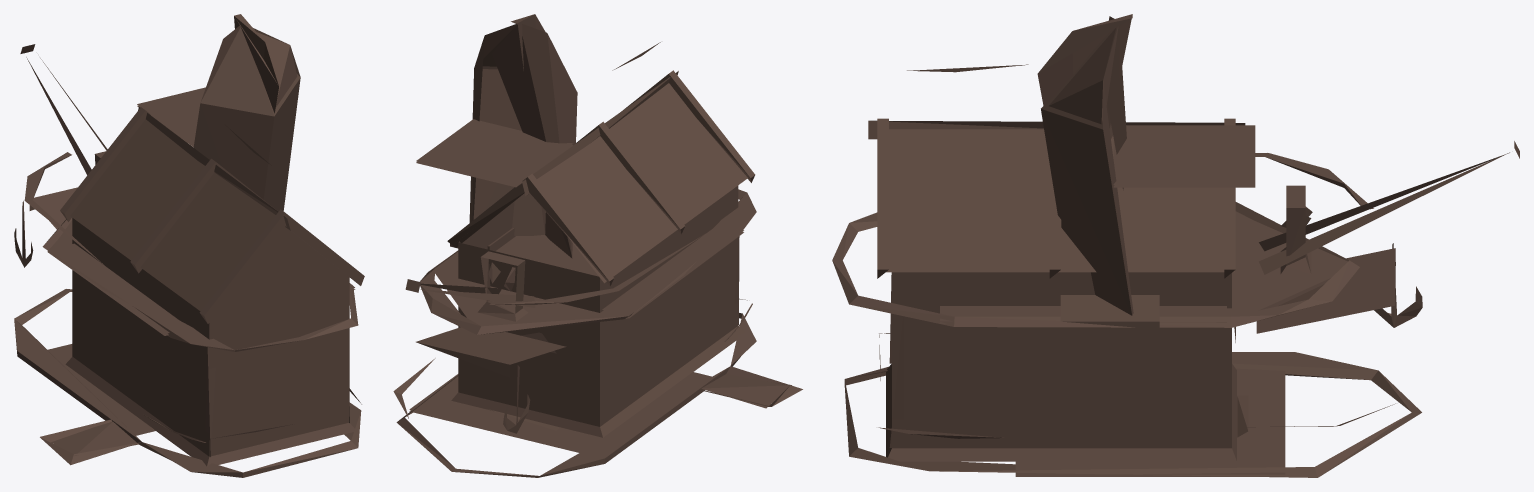
Rendered from fishing-hut.lod2.glb.
3 views of the same model, side by side, from view 1: azimuth 30°, elevation 25°; view 2: azimuth 150°, elevation 25°; view 3: azimuth 270°, elevation 25° (orthographic). The views are drawn at different scales.
Visible parts, largest first — view 1: Box040_Material #2_0; view 2: Box040_Material #2_0; view 3: Box040_Material #2_0.
Part boxes in pixels (box(x1,y1,x2,y2)): Box040_Material #2_0: box(14, 14, 364, 477); Box040_Material #2_0: box(393, 14, 802, 477); Box040_Material #2_0: box(832, 14, 1519, 477).
Bounding box in the file's own units: 4.07 × 4.9 × 6.99.
